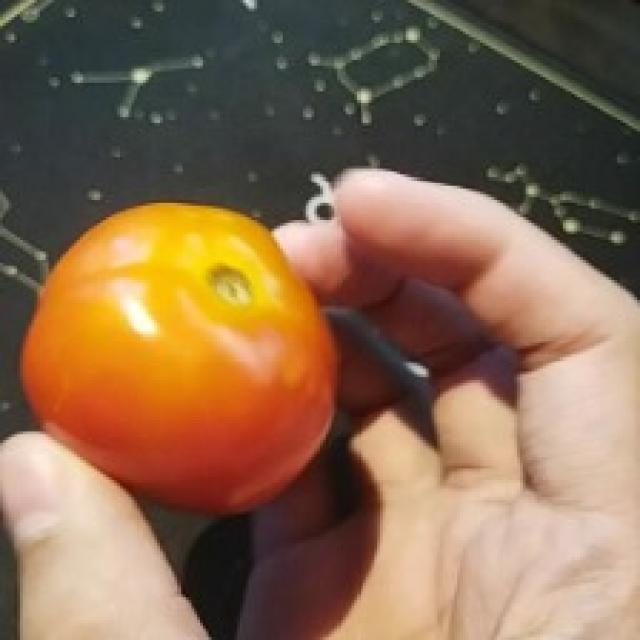Fresh Tomato: (8, 191, 358, 512)
